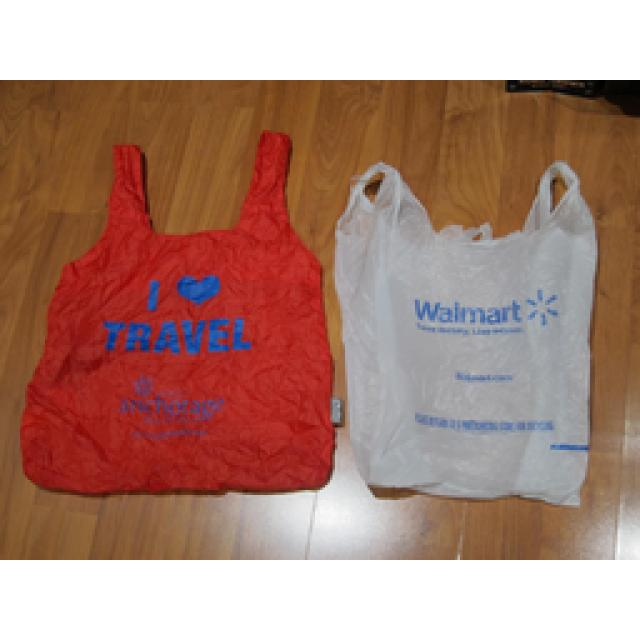plastic: (22, 132, 330, 492), (335, 162, 595, 502)
